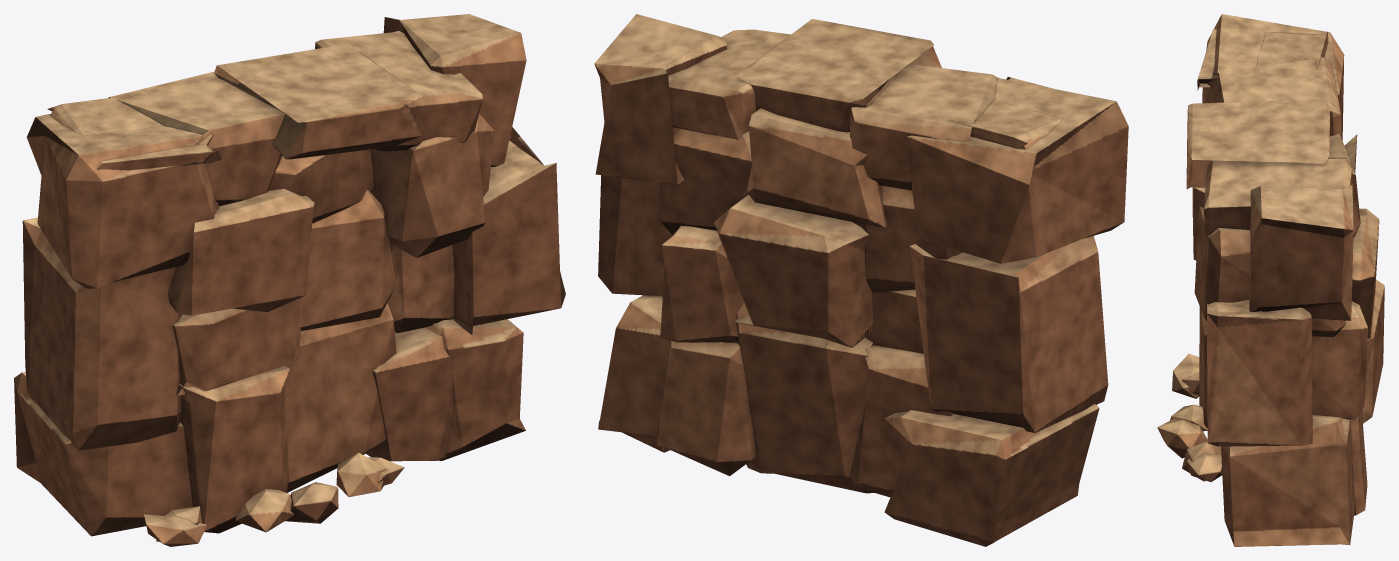
File: Env_CliffBrown_2.glb
The picture shows the model from 3 angles, left to right: view 1: azimuth 30°, elevation 25°; view 2: azimuth 150°, elevation 25°; view 3: azimuth 270°, elevation 25°; orthographic projection. The views are drawn at different scales.
Parts seen in each view (by area): view 1: Env_CliffBrown_2.001; view 2: Env_CliffBrown_2.001; view 3: Env_CliffBrown_2.001.
Part boxes in pixels (x1=…): Env_CliffBrown_2.001: x1=14, y1=14, x2=565, y2=546; Env_CliffBrown_2.001: x1=594, y1=14, x2=1128, y2=546; Env_CliffBrown_2.001: x1=1157, y1=14, x2=1384, y2=546.
Size of the model in its own units: 12 by 9.38 by 5.47.
Materials: 1 (1 with a texture image).
